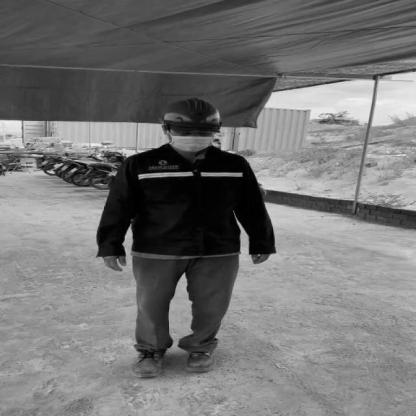person: (88, 96, 278, 373)
